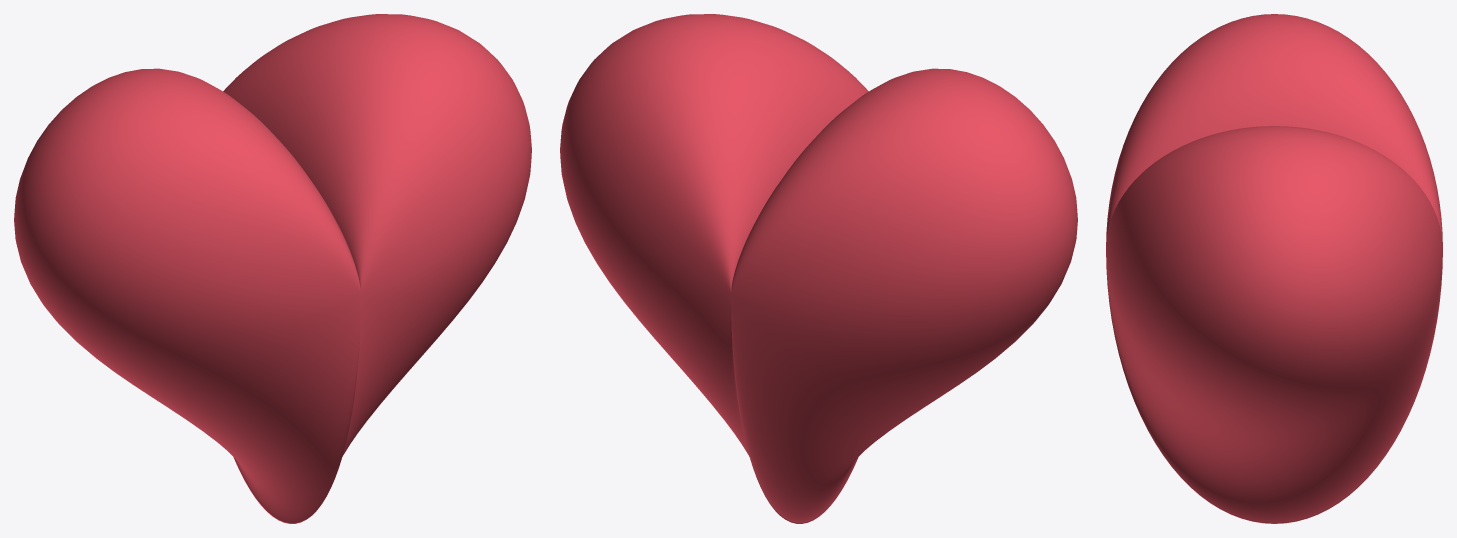
The model's file is heart (1).glb.
3 renders of one model, left to right at view 1: azimuth 30°, elevation 25°; view 2: azimuth 150°, elevation 25°; view 3: azimuth 270°, elevation 25°, orthographic. The views are drawn at different scales.
Visible parts, largest first — view 1: Coracao; view 2: Coracao; view 3: Coracao.
Boxes of the visible parts, x1=… form: Coracao: x1=14, y1=14, x2=531, y2=523; Coracao: x1=560, y1=14, x2=1077, y2=523; Coracao: x1=1106, y1=14, x2=1442, y2=523.
Size of the model in its own units: 1.78 by 1.61 by 1.11.
